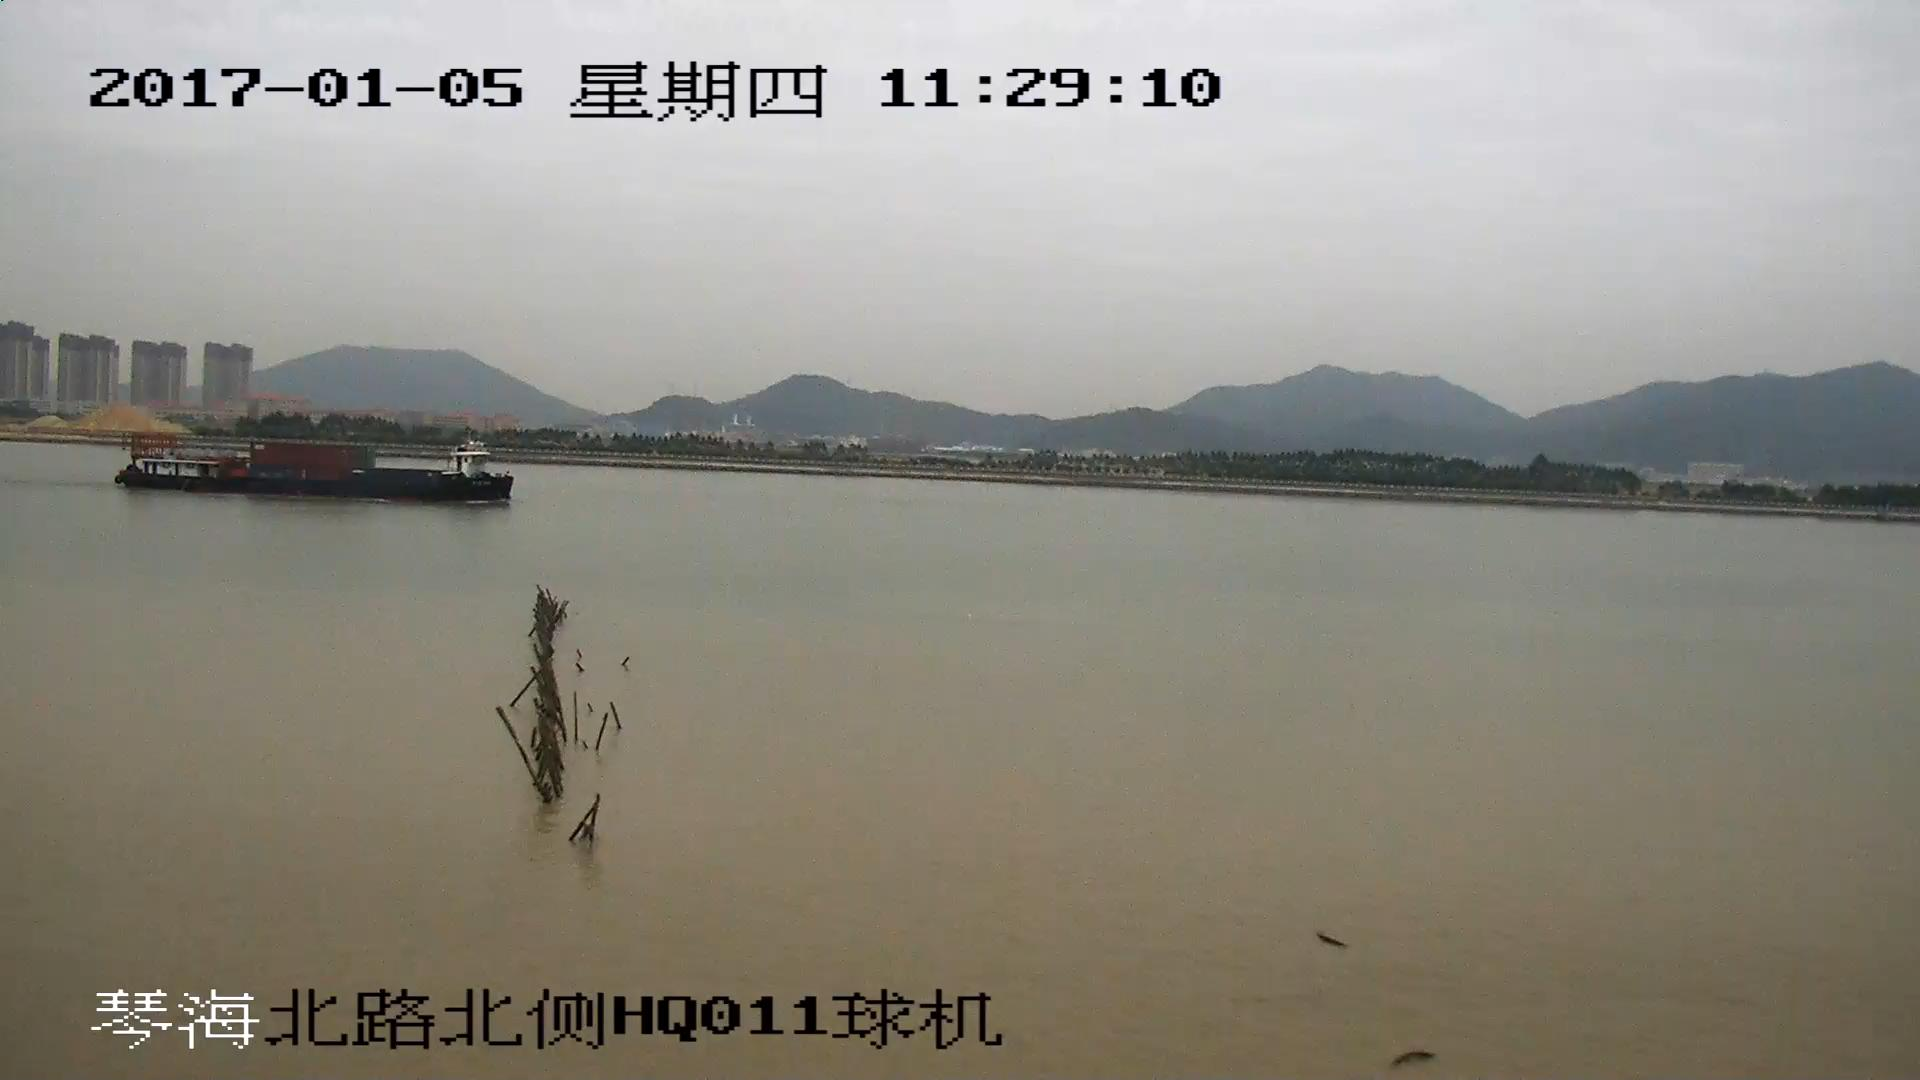container ship: (111, 431, 514, 507)
